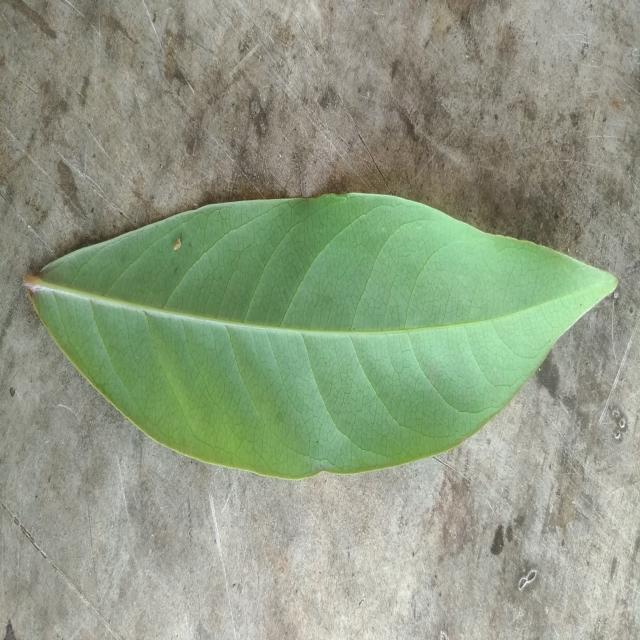seethaashoka: (25, 193, 616, 478)
